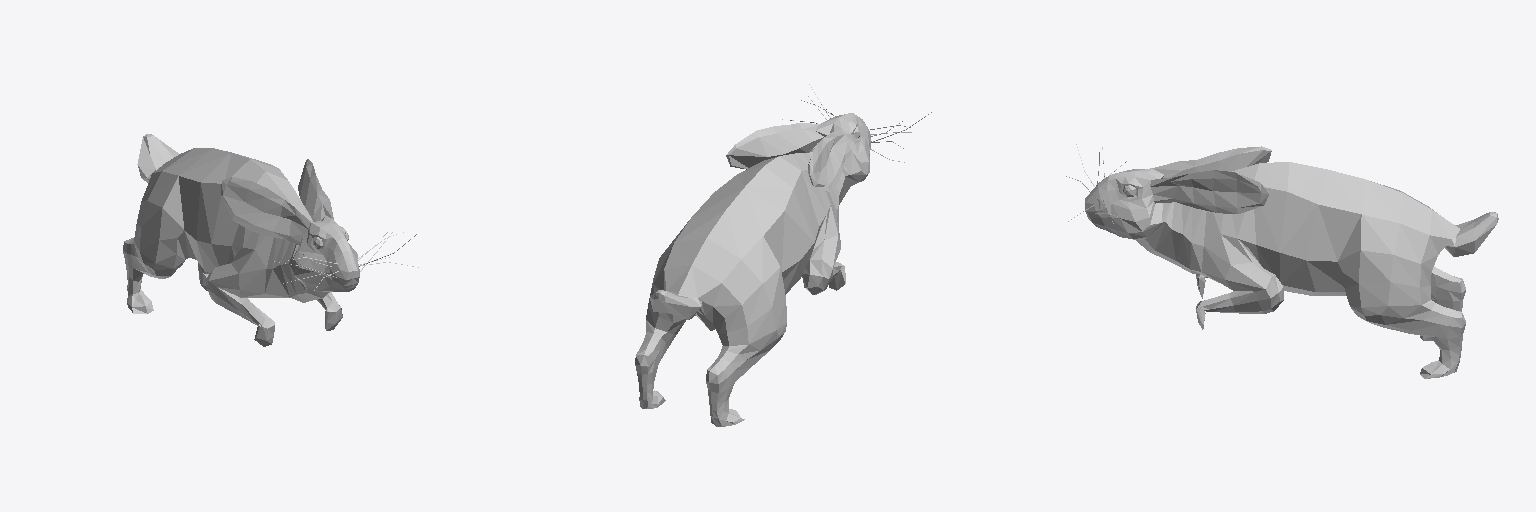
Rendered from rabbit_2.obj.
The picture shows the model from 3 angles: view 1: azimuth 30°, elevation 25°; view 2: azimuth 150°, elevation 25°; view 3: azimuth 270°, elevation 25°; orthographic projection.
Parts seen in each view (by area): view 1: Rabbit_Cylinder; view 2: Rabbit_Cylinder; view 3: Rabbit_Cylinder.
Part boxes in pixels (x1,y1,x2,y2): Rabbit_Cylinder: (123,134,418,346); Rabbit_Cylinder: (635,84,931,426); Rabbit_Cylinder: (1066,144,1498,378).
Bounding box in the file's own units: 6.89 × 10.59 × 20.9.